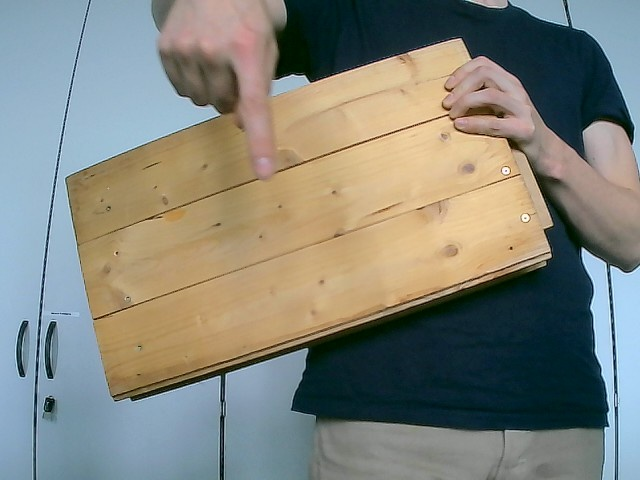down: (153, 1, 288, 181)
no_gesture: (436, 52, 565, 180)
